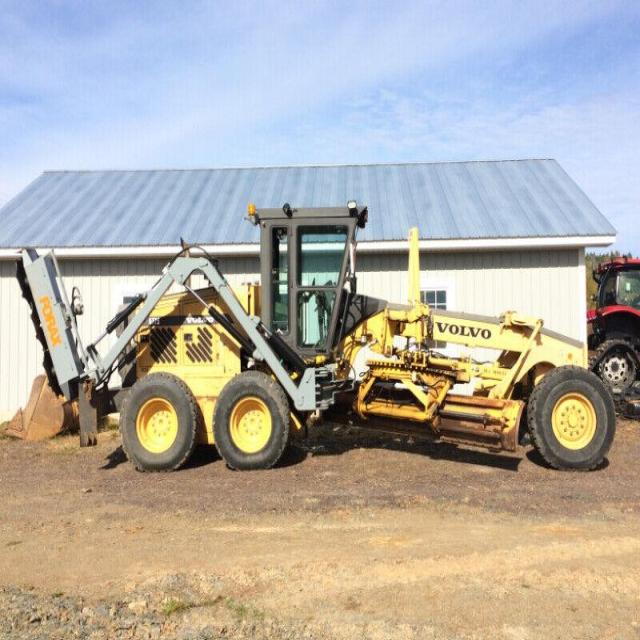Grader: (101, 185, 616, 506)
